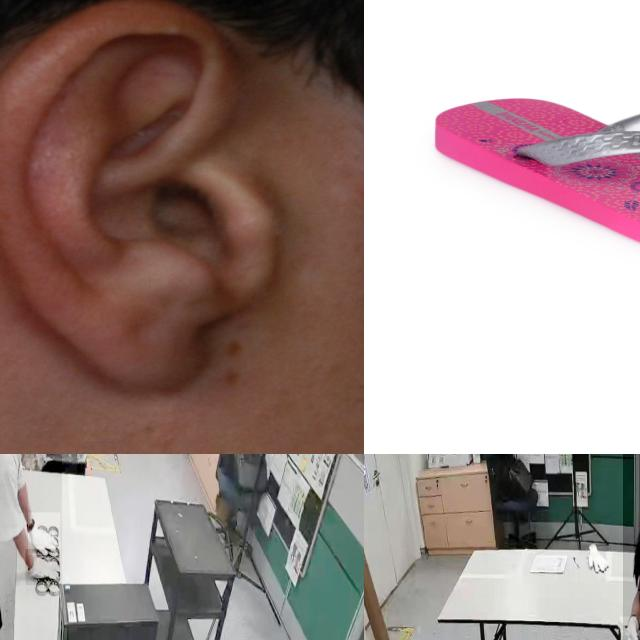No_Ear-Protection: (0, 0, 286, 401)
Sandals: (432, 95, 640, 267)
hand_glove: (28, 513, 60, 555), (26, 549, 60, 586), (619, 616, 640, 640)
person: (0, 454, 62, 640)
